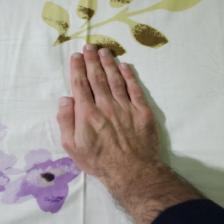five: (58, 43, 161, 181)
